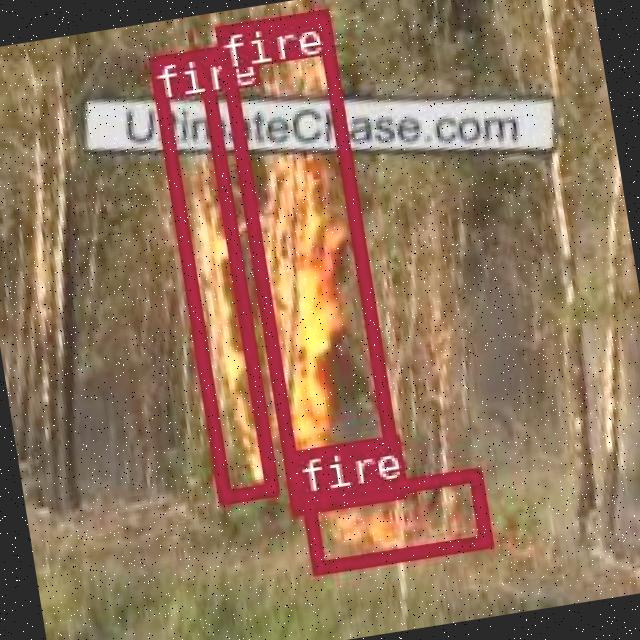fire: (214, 7, 402, 512), (146, 46, 278, 502), (298, 467, 490, 574)
